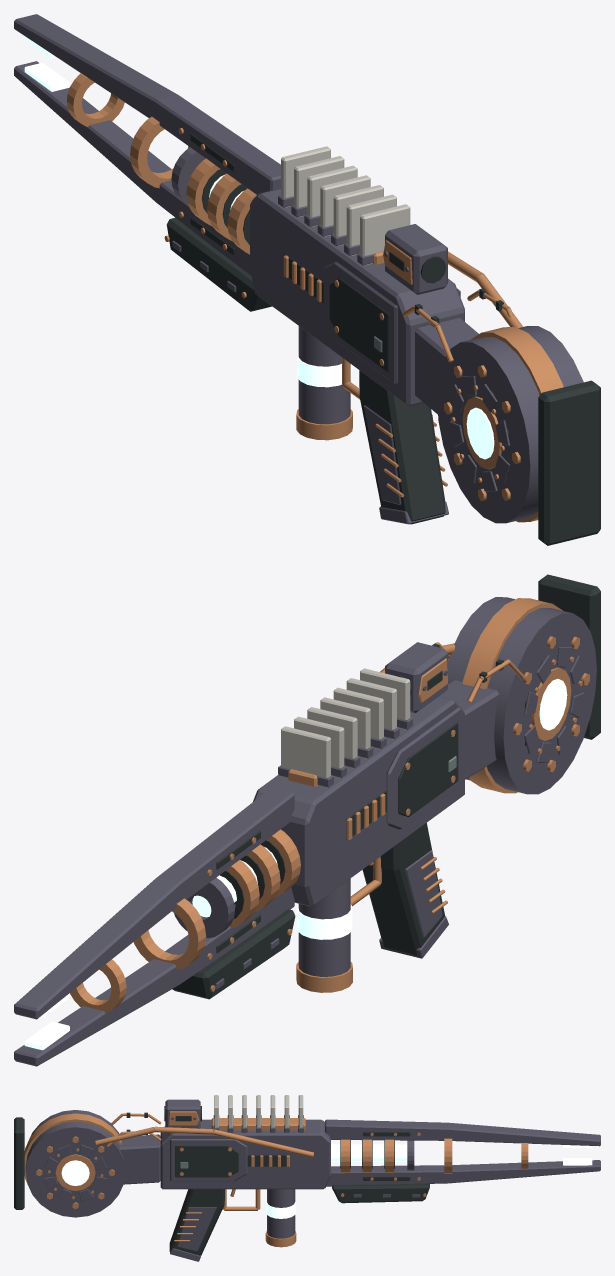
The model's file is laser_0.glb.
The picture shows the model from 3 angles, top to bottom: view 1: azimuth 30°, elevation 25°; view 2: azimuth 150°, elevation 25°; view 3: azimuth 270°, elevation 25°; orthographic projection. The views are drawn at different scales.
Visible parts, largest first — view 1: Weapon_laser_v1; view 2: Weapon_laser_v1; view 3: Weapon_laser_v1.
Boxes of the visible parts, left/top/right/bottom form: Weapon_laser_v1: left=14, top=14, right=600, bottom=545; Weapon_laser_v1: left=14, top=574, right=600, bottom=1066; Weapon_laser_v1: left=14, top=1095, right=600, bottom=1261.
Bounding box in the file's own units: 0.087 × 0.2927 × 1.
